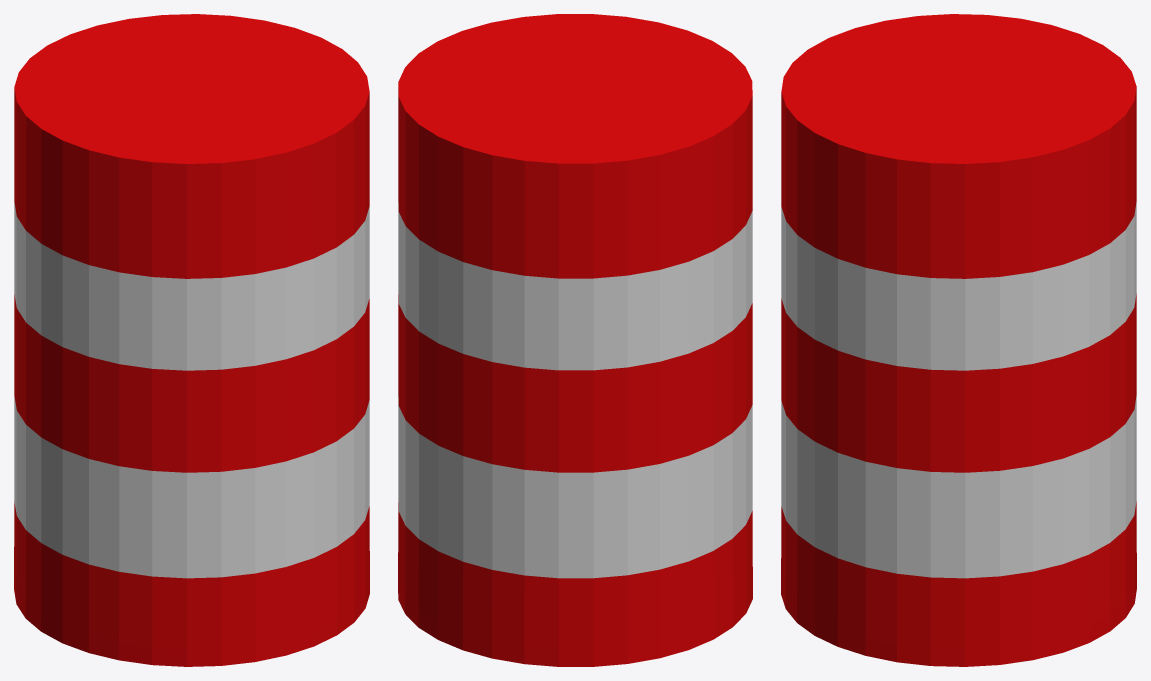
File: gazebo_world_5_Circle.025.dae
The picture shows the model from 3 angles, left to right: view 1: azimuth 30°, elevation 25°; view 2: azimuth 150°, elevation 25°; view 3: azimuth 270°, elevation 25°; orthographic projection.
Parts seen in each view (by area): view 1: Circle.025; view 2: Circle.025; view 3: Circle.025.
Part boxes in pixels (x1,y1,x2,y2): Circle.025: (14,14,369,666); Circle.025: (398,14,752,666); Circle.025: (781,14,1136,666).
Bounding box in the file's own units: 0.7771 × 0.7771 × 1.21.
